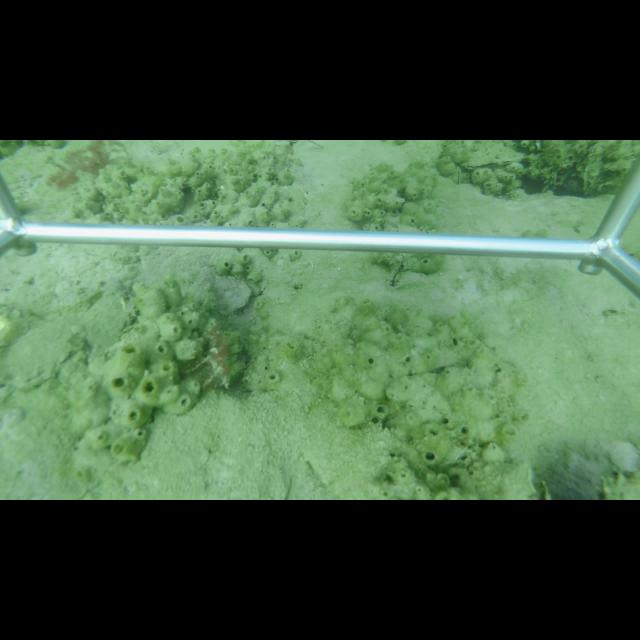Oyster-Closed: (210, 269, 254, 318)
Oyster-Open: (463, 142, 527, 170)
